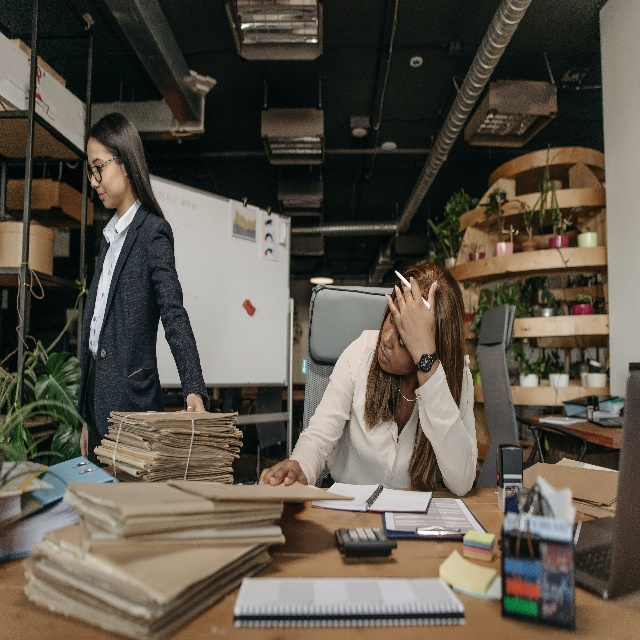Gafas: (85, 154, 120, 183)
Sin_guantes: (384, 275, 439, 363), (257, 458, 309, 486), (185, 393, 206, 415), (79, 422, 90, 461)
